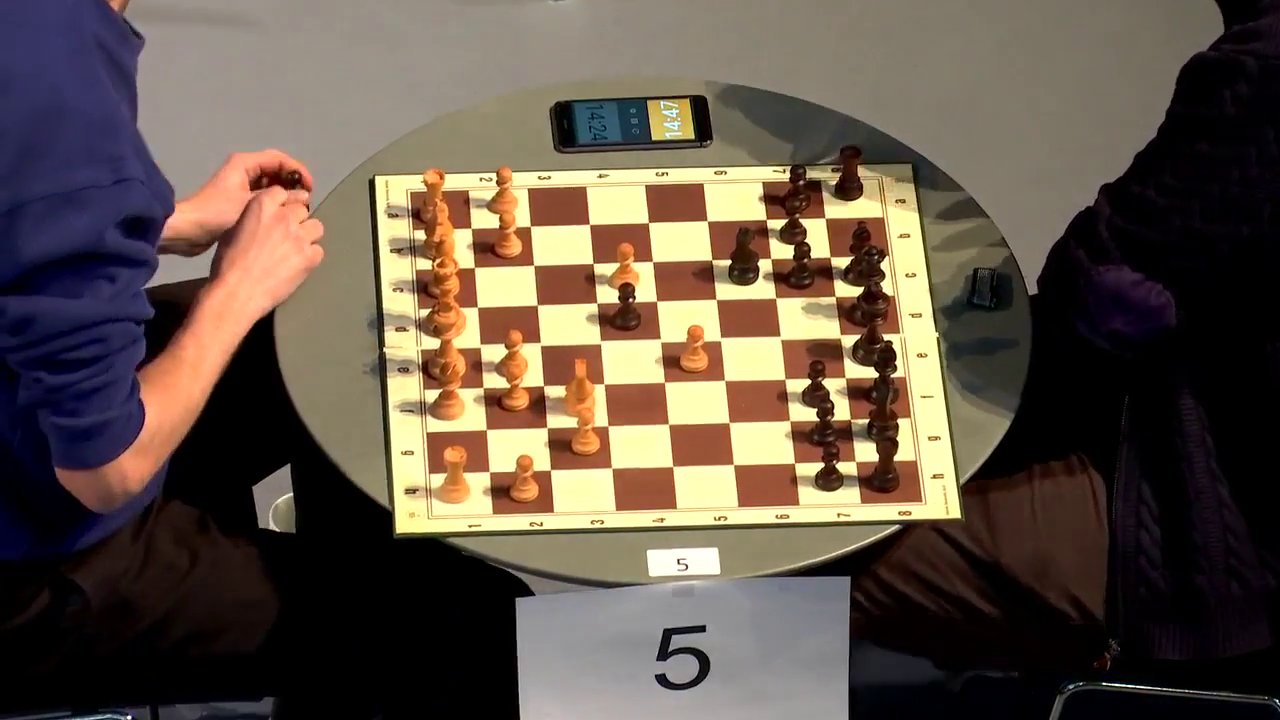black-bishop: (843, 220, 876, 287), (866, 340, 899, 406)
black-king: (851, 280, 891, 367)
black-knight: (866, 376, 899, 441), (727, 226, 759, 286)
black-pawn: (814, 442, 844, 492), (611, 282, 641, 332), (808, 399, 839, 447), (801, 359, 831, 408), (778, 196, 807, 245), (783, 163, 812, 211), (785, 242, 814, 289)
black-queen: (854, 245, 888, 325)
black-rook: (834, 143, 864, 202), (870, 435, 900, 494)
white-bishop: (426, 233, 461, 298), (431, 356, 465, 421)
white-king: (427, 299, 466, 380)
white-knight: (422, 198, 455, 261), (564, 357, 596, 418)
white-pawn: (497, 364, 531, 413), (507, 454, 540, 504), (496, 328, 529, 377), (486, 166, 519, 215), (490, 210, 523, 259), (570, 407, 602, 457), (607, 242, 640, 290), (679, 325, 710, 373)
white-queen: (426, 256, 466, 337)
white-rook: (439, 446, 471, 505), (419, 168, 449, 224)
